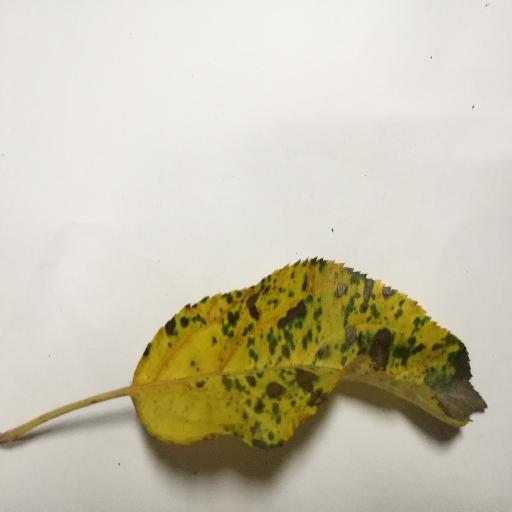Brown_Spot: (127, 193, 478, 486)
